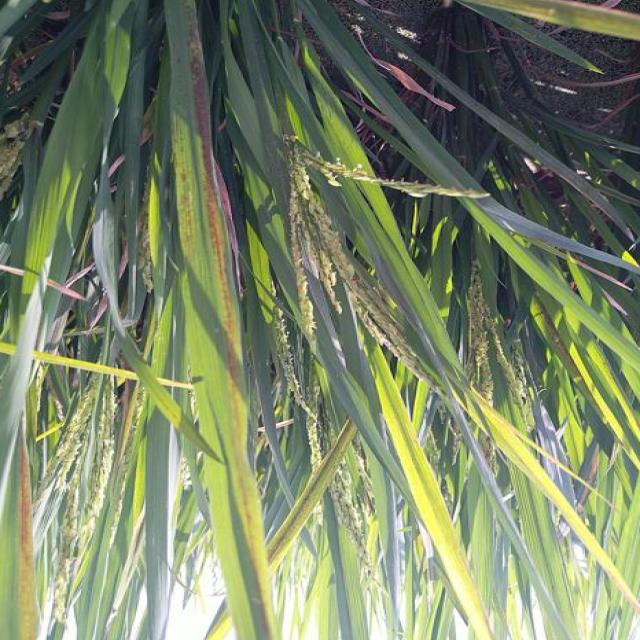Leaf Streak: (191, 17, 246, 399), (266, 424, 353, 572), (7, 455, 41, 640)
